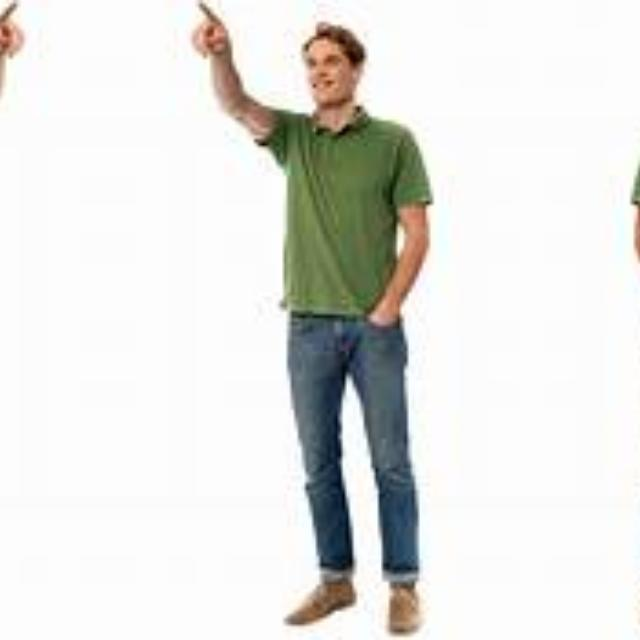person: (185, 12, 479, 640), (584, 12, 640, 639), (0, 12, 29, 639)
